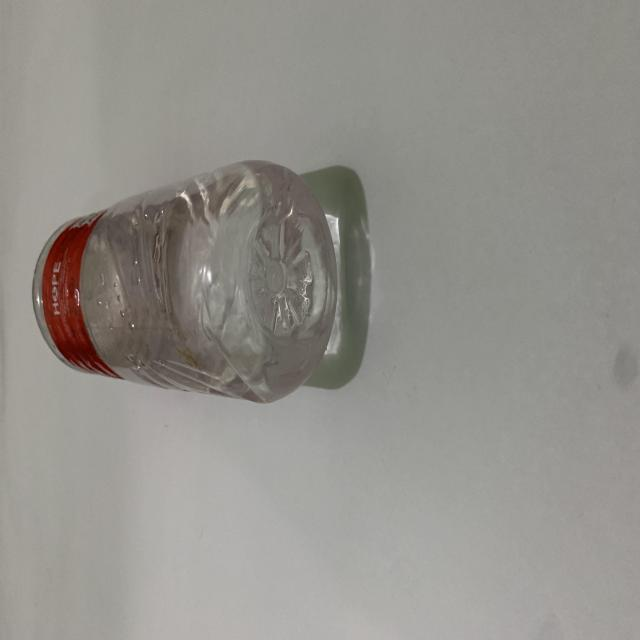bottle: (23, 139, 370, 432)
